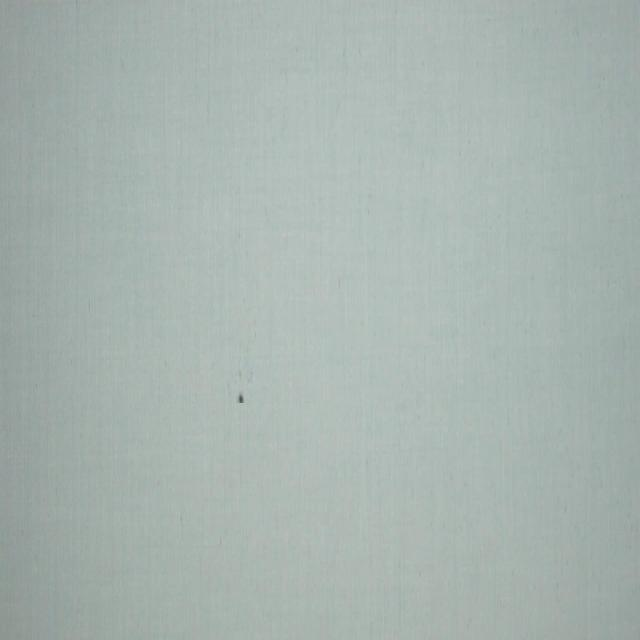dirty: (238, 394, 245, 406)
